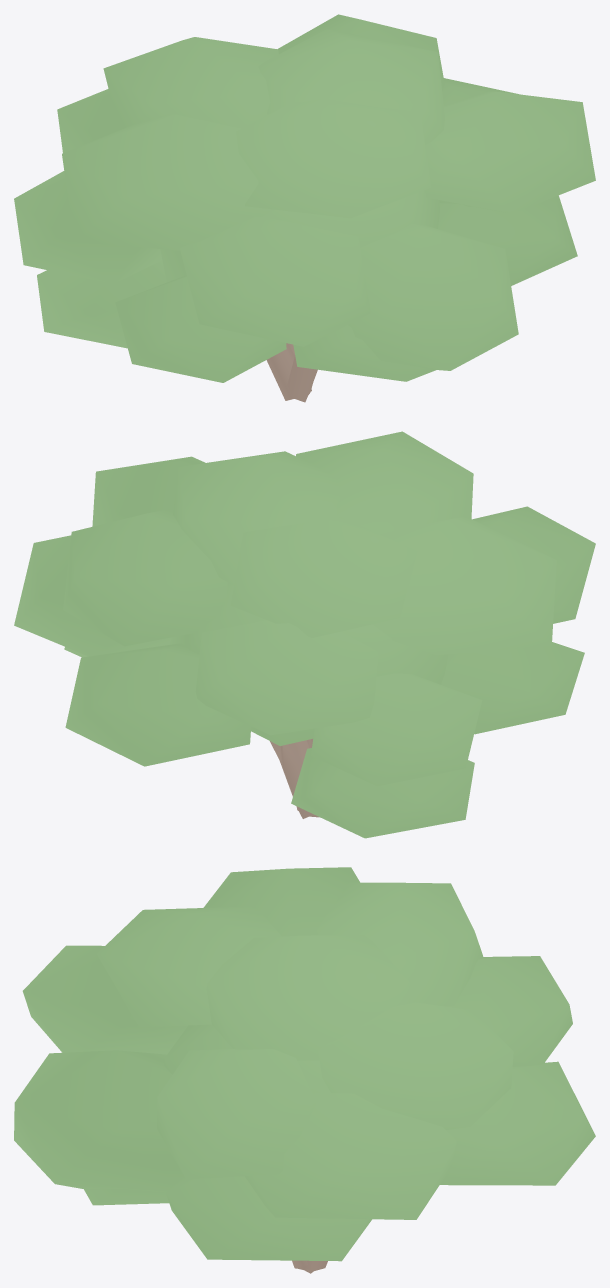
File: Blender_Shrub_2_Far.glb
The picture shows the model from 3 angles, top to bottom: view 1: azimuth 30°, elevation 25°; view 2: azimuth 150°, elevation 25°; view 3: azimuth 270°, elevation 25°; orthographic projection. The views are drawn at different scales.
Visible parts, largest first — view 1: Blender_Shrub_2_Far; view 2: Blender_Shrub_2_Far; view 3: Blender_Shrub_2_Far.
Part boxes in pixels (x1=…): Blender_Shrub_2_Far: x1=14, y1=14, x2=595, y2=402; Blender_Shrub_2_Far: x1=14, y1=431, x2=595, y2=838; Blender_Shrub_2_Far: x1=14, y1=867, x2=595, y2=1273.
Bounding box in the file's own units: 1.94 × 1.29 × 1.9.
